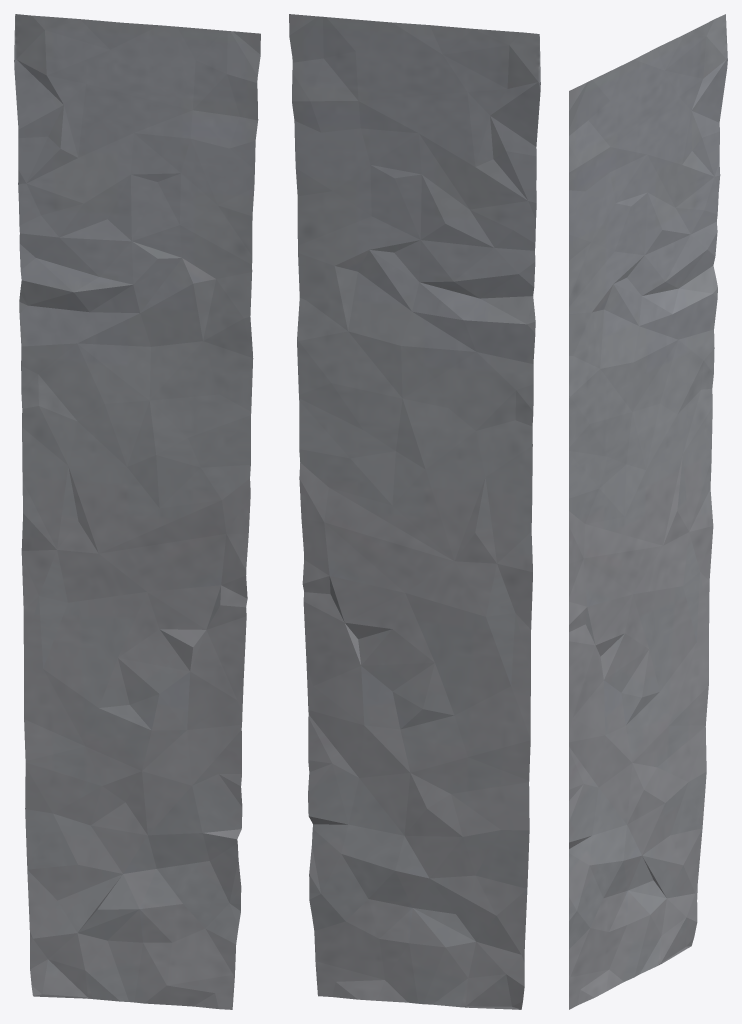
3 views of the same model, side by side, from view 1: azimuth 30°, elevation 25°; view 2: azimuth 210°, elevation 25°; view 3: azimuth 270°, elevation 25° (orthographic). The views are drawn at different scales.
Size of the model in its own units: 0.1484 by 0.8374 by 0.1293.
1 material, 1 textured.
